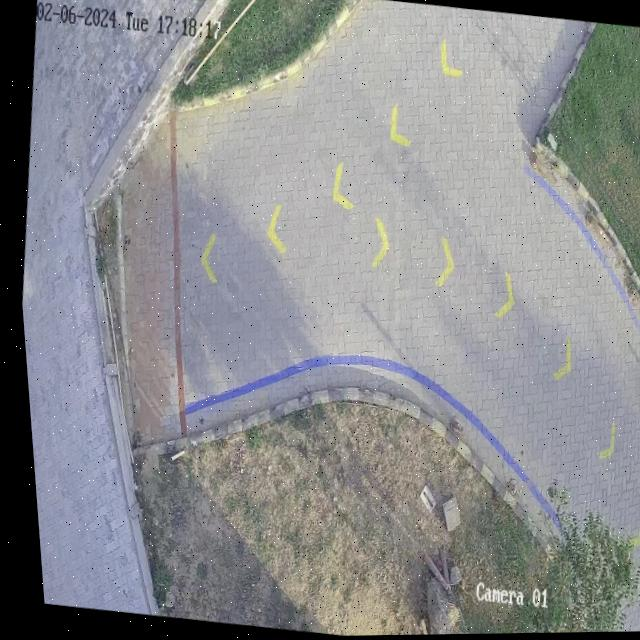No Car: (17, 0, 640, 637)
